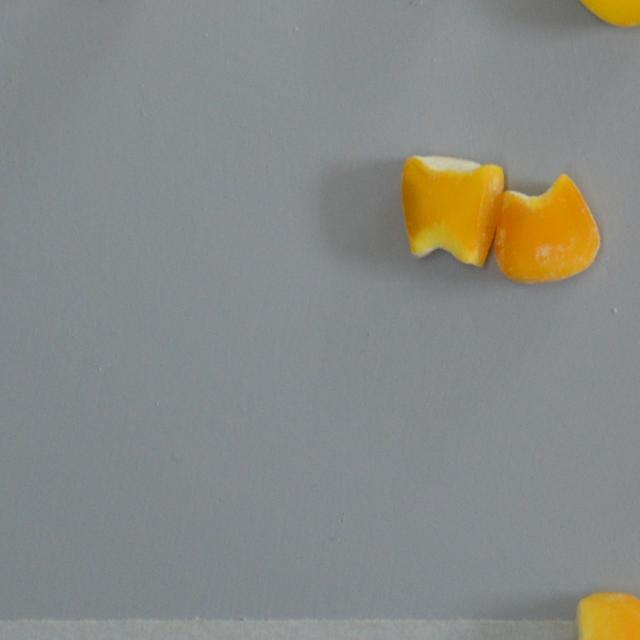no_canjicado: (397, 152, 505, 268), (493, 170, 602, 284), (550, 0, 640, 30)
